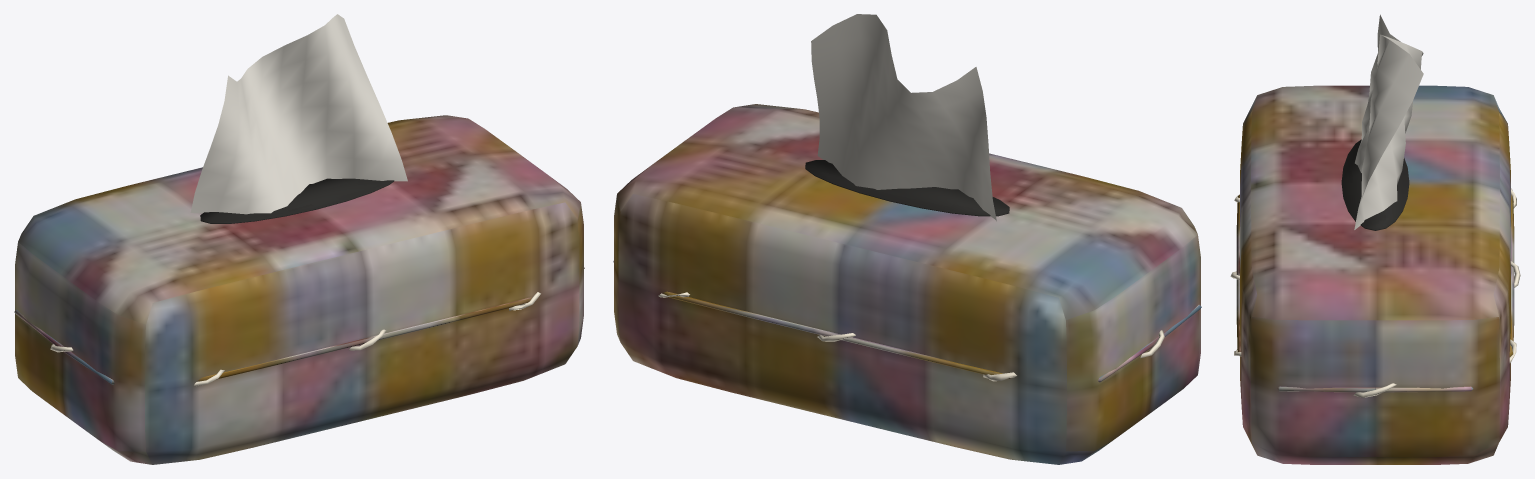
The model's file is tissue_patch.glb.
3 renders of one model, left to right at view 1: azimuth 30°, elevation 25°; view 2: azimuth 150°, elevation 25°; view 3: azimuth 270°, elevation 25°, orthographic. The views are drawn at different scales.
Parts seen in each view (by area): view 1: tissue_patch_patch_rose, tissue_patch_paper_white, tissue_patch_felt_charcoal, tissue_patch_thread; view 2: tissue_patch_patch_rose, tissue_patch_paper_white, tissue_patch_felt_charcoal, tissue_patch_thread; view 3: tissue_patch_patch_rose, tissue_patch_paper_white, tissue_patch_felt_charcoal, tissue_patch_thread.
Boxes of the visible parts, box(x1,y1,x2,y2) form: tissue_patch_patch_rose: box(14, 115, 584, 464); tissue_patch_paper_white: box(190, 14, 407, 214); tissue_patch_felt_charcoal: box(200, 178, 394, 223); tissue_patch_thread: box(50, 292, 540, 386); tissue_patch_patch_rose: box(613, 104, 1201, 464); tissue_patch_paper_white: box(811, 14, 996, 221); tissue_patch_felt_charcoal: box(805, 160, 1009, 216); tissue_patch_thread: box(658, 292, 1164, 381); tissue_patch_patch_rose: box(1236, 85, 1514, 464); tissue_patch_paper_white: box(1354, 14, 1423, 229); tissue_patch_felt_charcoal: box(1341, 139, 1409, 230); tissue_patch_thread: box(1230, 188, 1520, 397).
Size of the model in its own units: 0.4968 by 0.3394 by 0.2568.
Materials: 4 (2 with a texture image).
